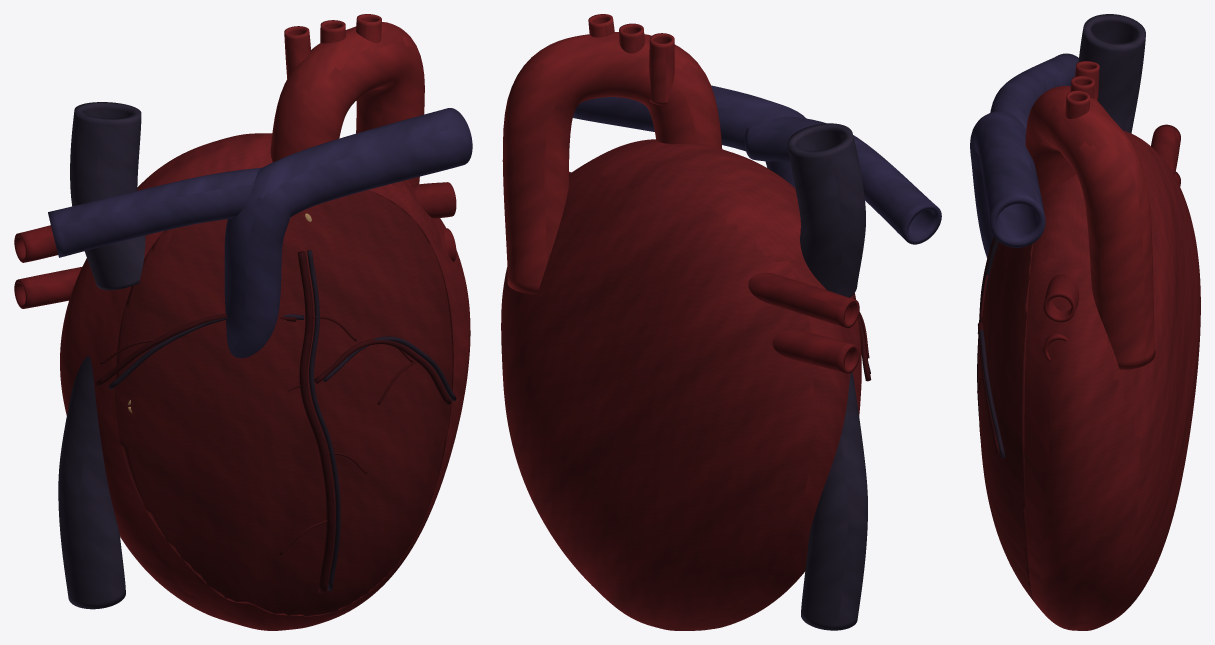
The model's file is heart-hq.glb.
3 renders of one model, left to right at view 1: azimuth 30°, elevation 25°; view 2: azimuth 150°, elevation 25°; view 3: azimuth 270°, elevation 25°, orthographic. The views are drawn at different scales.
Visible parts, largest first — view 1: heart_13_anterior_wall, heart_13_sculpted_myocardium, heart_part_05_hollow_vessel_003, heart_part_11_hollow_vessel_005, heart_part_12_hollow_vessel_004, heart_part_05_hollow_vessel_004, heart_part_12_hollow_vessel_003, heart_13_coronary_artery, heart_13_coronary_vein, heart_part_06_hollow_vessel_006, heart_part_06_hollow_vessel_007, heart_part_06_hollow_vessel_008 (+6 smaller); view 2: heart_13_sculpted_myocardium, heart_part_11_hollow_vessel_005, heart_part_12_hollow_vessel_003, heart_part_12_hollow_vessel_004, heart_part_05_hollow_vessel_004, heart_part_05_hollow_vessel_003, heart_part_06_hollow_vessel_008, heart_part_06_hollow_vessel_006, heart_part_11_hollow_vessel_006, heart_part_11_hollow_vessel_007; view 3: heart_13_sculpted_myocardium, heart_part_11_hollow_vessel_005, heart_13_anterior_wall, heart_part_05_hollow_vessel_003, heart_part_12_hollow_vessel_003, heart_part_05_hollow_vessel_004, heart_part_06_hollow_vessel_007, heart_part_06_hollow_vessel_008, heart_13_coronary_vein.002, heart_part_11_hollow_vessel_008, heart_part_11_hollow_vessel_006, heart_13_coronary_artery.002 (+2 smaller).
Boxes of the visible parts, bbox=[...] form: heart_13_anterior_wall: bbox=[114, 190, 453, 616]; heart_13_sculpted_myocardium: bbox=[60, 133, 470, 630]; heart_part_05_hollow_vessel_003: bbox=[224, 108, 472, 358]; heart_part_11_hollow_vessel_005: bbox=[270, 22, 424, 208]; heart_part_12_hollow_vessel_004: bbox=[58, 355, 125, 609]; heart_part_05_hollow_vessel_004: bbox=[48, 167, 261, 257]; heart_part_12_hollow_vessel_003: bbox=[70, 102, 145, 290]; heart_13_coronary_artery: bbox=[298, 251, 334, 593]; heart_13_coronary_vein: bbox=[307, 250, 340, 591]; heart_part_06_hollow_vessel_006: bbox=[14, 267, 81, 308]; heart_part_06_hollow_vessel_007: bbox=[411, 182, 456, 218]; heart_part_06_hollow_vessel_008: bbox=[14, 225, 57, 262]; heart_13_sculpted_myocardium: bbox=[501, 139, 861, 630]; heart_part_11_hollow_vessel_005: bbox=[502, 32, 722, 294]; heart_part_12_hollow_vessel_003: bbox=[787, 123, 865, 297]; heart_part_12_hollow_vessel_004: bbox=[801, 372, 867, 630]; heart_part_05_hollow_vessel_004: bbox=[744, 116, 941, 244]; heart_part_05_hollow_vessel_003: bbox=[573, 85, 806, 187]; heart_part_06_hollow_vessel_008: bbox=[748, 272, 859, 327]; heart_part_06_hollow_vessel_006: bbox=[772, 330, 859, 373]; heart_part_11_hollow_vessel_006: bbox=[649, 33, 674, 105]; heart_part_11_hollow_vessel_007: bbox=[619, 23, 644, 53]; heart_13_sculpted_myocardium: bbox=[1024, 130, 1200, 630]; heart_part_11_hollow_vessel_005: bbox=[1025, 86, 1155, 369]; heart_13_anterior_wall: bbox=[978, 242, 1033, 601]; heart_part_05_hollow_vessel_003: bbox=[970, 111, 1045, 258]; heart_part_12_hollow_vessel_003: bbox=[1078, 14, 1145, 133]; heart_part_05_hollow_vessel_004: bbox=[990, 53, 1078, 130]; heart_part_06_hollow_vessel_007: bbox=[1043, 274, 1078, 322]; heart_part_06_hollow_vessel_008: bbox=[1151, 124, 1180, 175]; heart_13_coronary_vein.002: bbox=[977, 329, 1005, 458]; heart_part_11_hollow_vessel_008: bbox=[1065, 90, 1089, 118]; heart_part_11_hollow_vessel_006: bbox=[1075, 61, 1099, 100]; heart_13_coronary_artery.002: bbox=[978, 322, 1000, 454].
Bounding box in the file's own units: 4.26 × 5.67 × 2.13.
18 materials, 18 textured.
